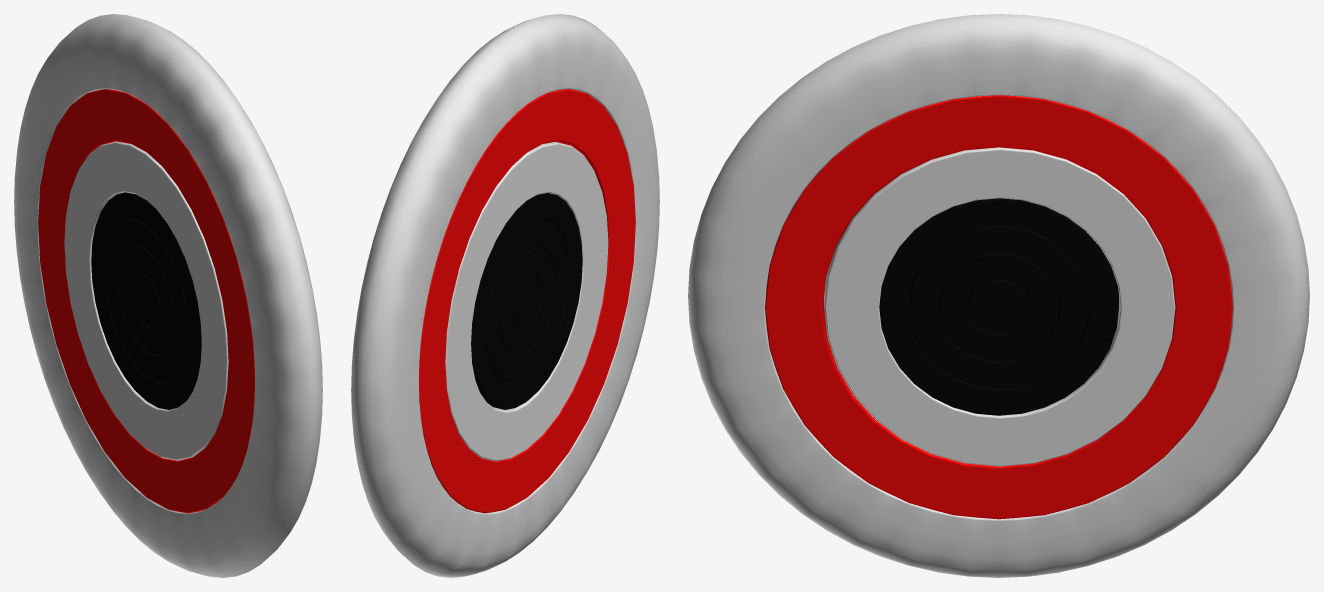
Rendered from target.gltf.
3 renders of one model, left to right at view 1: azimuth 30°, elevation 25°; view 2: azimuth 150°, elevation 25°; view 3: azimuth 270°, elevation 25°, orthographic. The views are drawn at different scales.
Visible parts, largest first — view 1: SM_Bullseye_06, SM_Bullseye_05, SM_Bullseye_04, SM_Bullseye_03, SM_Bullseye_02, SM_Bullseye_01, SM_Bullseye_00; view 2: SM_Bullseye_06, SM_Bullseye_05, SM_Bullseye_04, SM_Bullseye_03, SM_Bullseye_02, SM_Bullseye_01, SM_Bullseye_00; view 3: SM_Bullseye_06, SM_Bullseye_05, SM_Bullseye_04, SM_Bullseye_03, SM_Bullseye_02, SM_Bullseye_01, SM_Bullseye_00.
Part boxes in pixels (bbox=[...]): SM_Bullseye_06: bbox=[14, 14, 322, 577]; SM_Bullseye_05: bbox=[38, 89, 254, 513]; SM_Bullseye_04: bbox=[64, 141, 228, 460]; SM_Bullseye_03: bbox=[91, 192, 201, 409]; SM_Bullseye_02: bbox=[105, 219, 188, 382]; SM_Bullseye_01: bbox=[119, 246, 174, 355]; SM_Bullseye_00: bbox=[133, 274, 160, 328]; SM_Bullseye_06: bbox=[351, 14, 659, 577]; SM_Bullseye_05: bbox=[419, 89, 635, 513]; SM_Bullseye_04: bbox=[445, 142, 608, 461]; SM_Bullseye_03: bbox=[471, 193, 582, 409]; SM_Bullseye_02: bbox=[485, 219, 568, 382]; SM_Bullseye_01: bbox=[499, 246, 554, 355]; SM_Bullseye_00: bbox=[513, 274, 540, 328]; SM_Bullseye_06: bbox=[688, 14, 1309, 577]; SM_Bullseye_05: bbox=[765, 95, 1232, 519]; SM_Bullseye_04: bbox=[824, 147, 1175, 466]; SM_Bullseye_03: bbox=[879, 198, 1118, 415]; SM_Bullseye_02: bbox=[909, 225, 1088, 388]; SM_Bullseye_01: bbox=[939, 252, 1058, 361]; SM_Bullseye_00: bbox=[969, 279, 1028, 333].
Size of what is drawn, in the model's own units: 0.1867 by 2.06 by 2.06.
